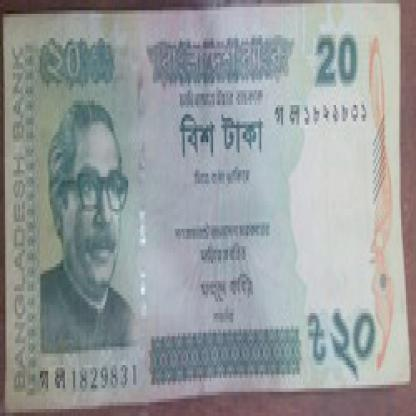Twenty: (173, 104, 273, 156), (36, 28, 116, 90), (300, 308, 378, 371), (313, 21, 371, 94)
